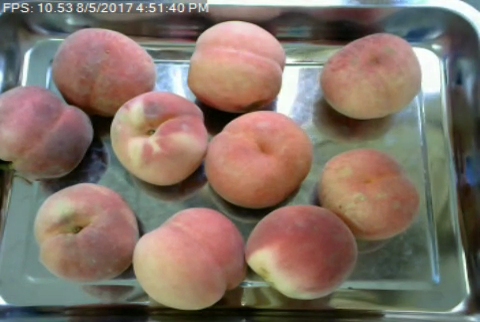Peach: (135, 207, 243, 310), (244, 203, 358, 300), (34, 182, 139, 282), (205, 109, 310, 208), (108, 88, 208, 185), (317, 147, 419, 241), (51, 26, 156, 115), (316, 32, 420, 121), (187, 19, 286, 112)
